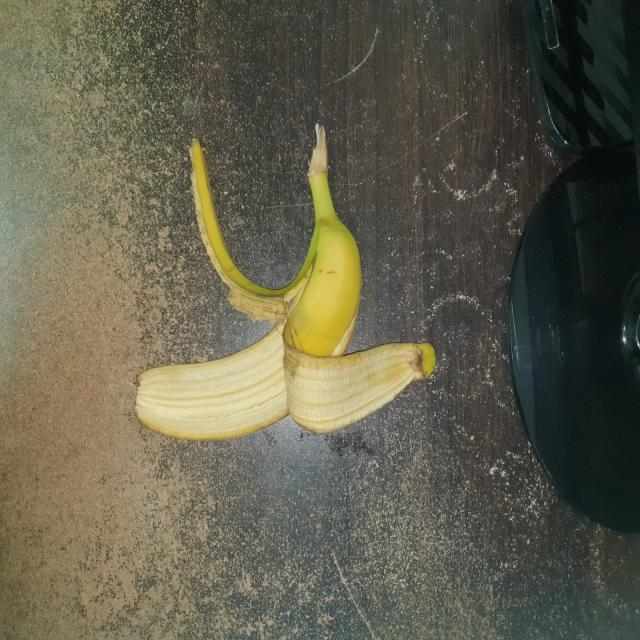banana-peel: (133, 121, 436, 441)
